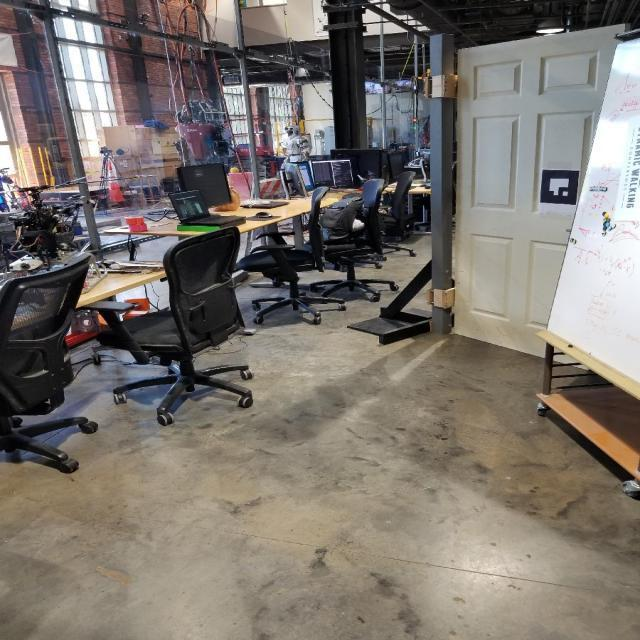door: (447, 22, 630, 377), (558, 225, 610, 243)
